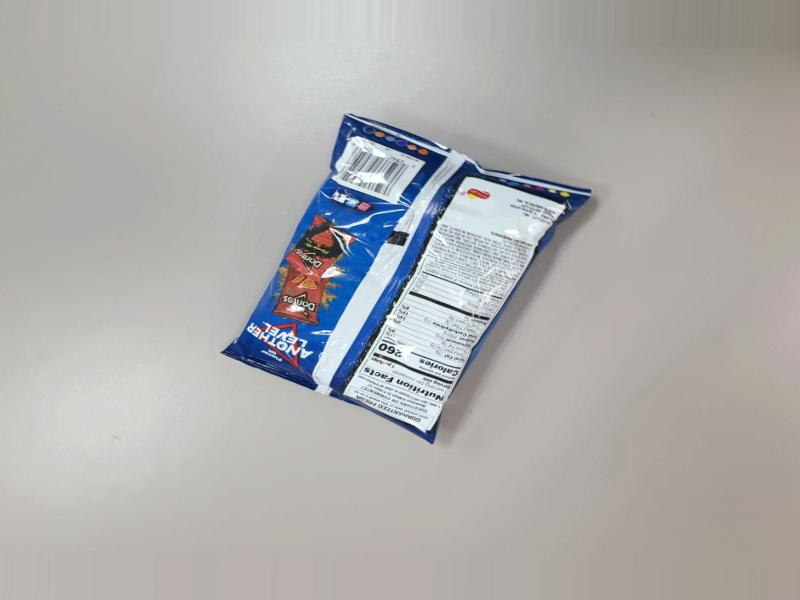doritos: (217, 115, 588, 450)
